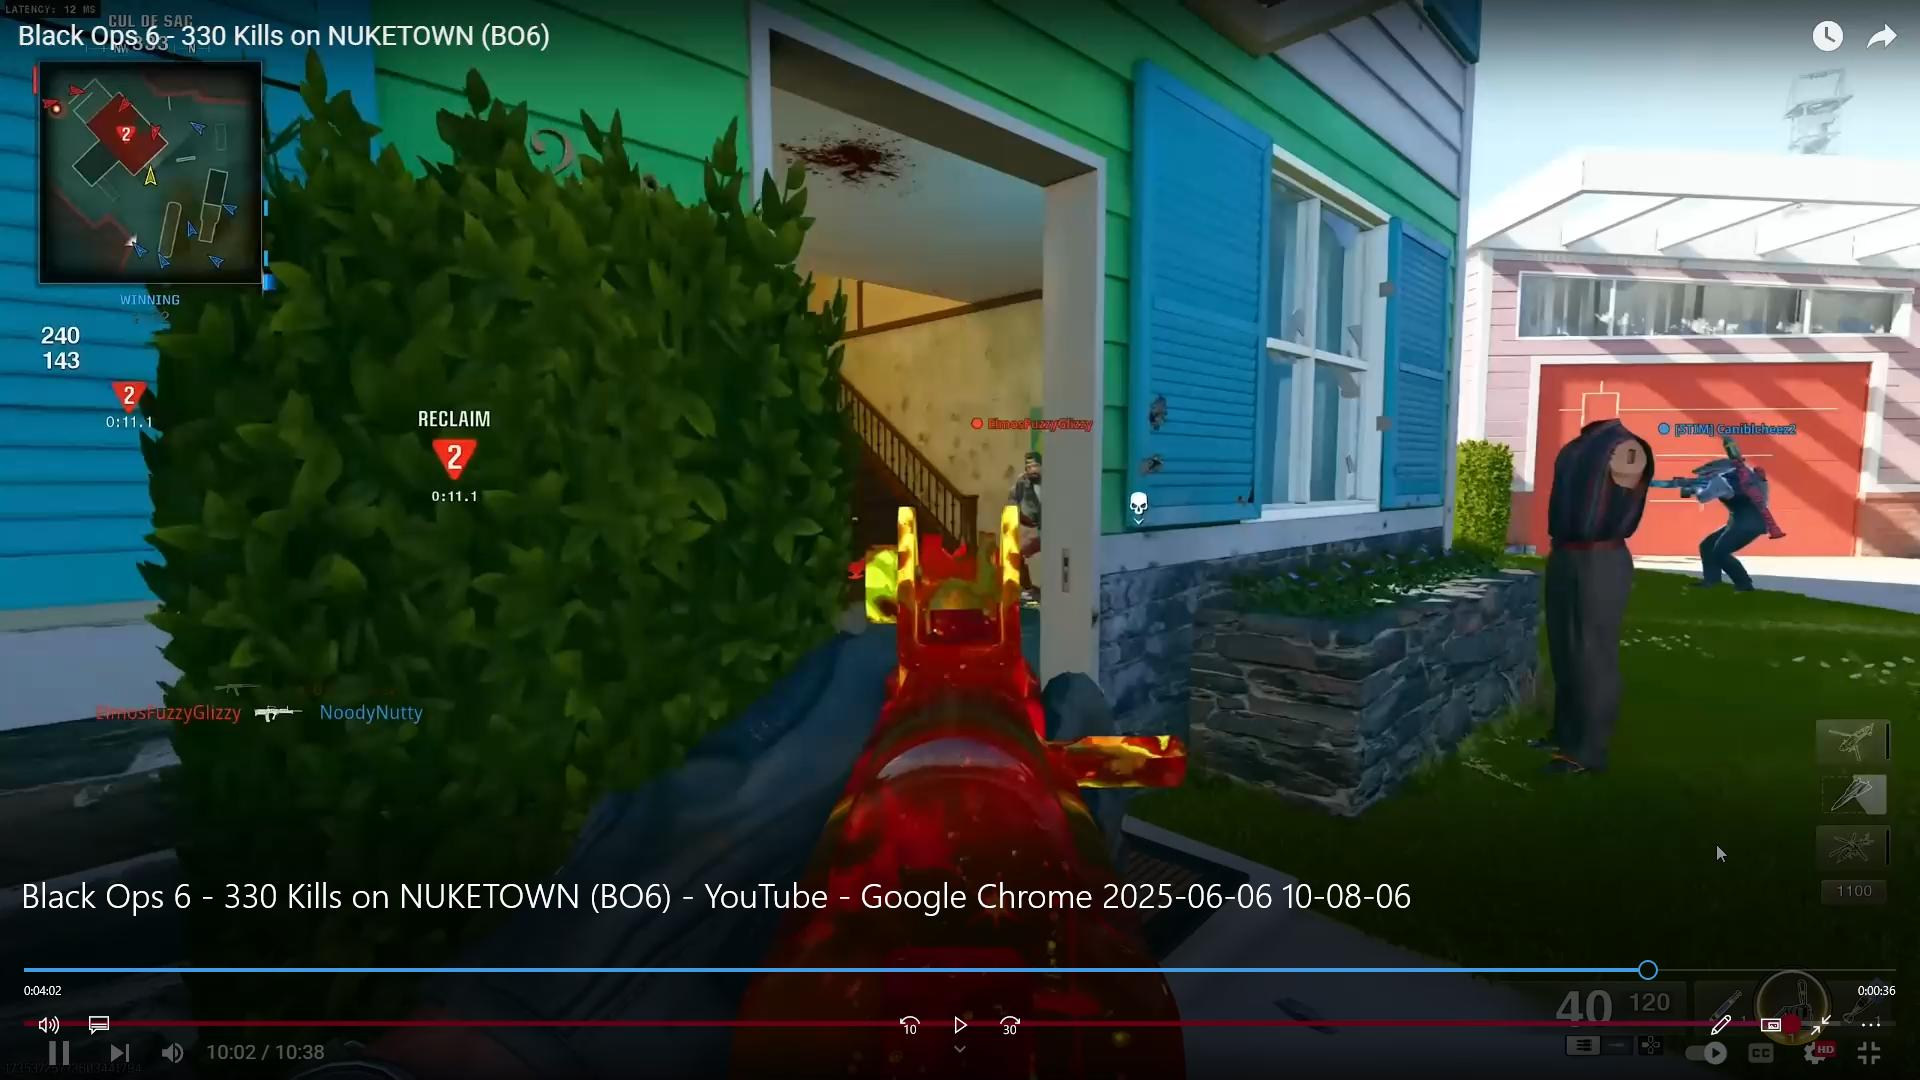Enemy: (953, 406, 1110, 534)
